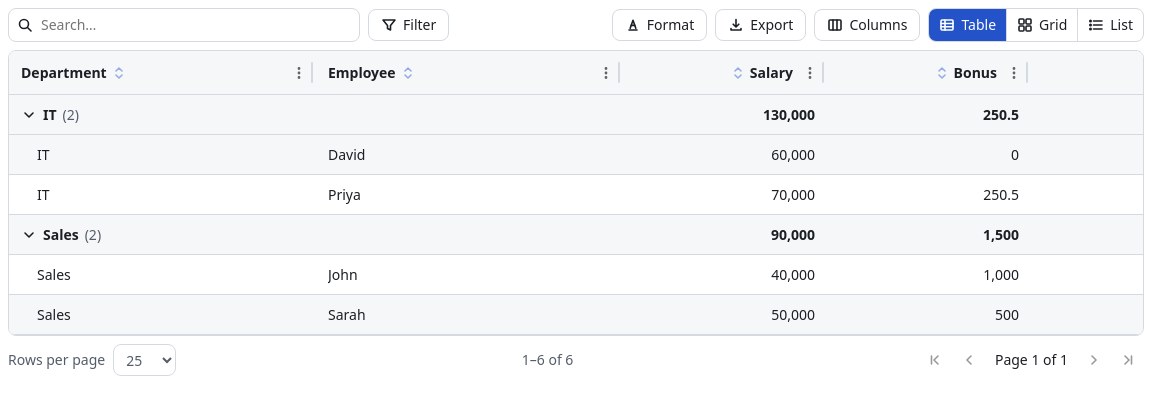
Test: aggregation › shows each group sum in that column and keeps it when the group is collapsed
Check: the text "John" is shown, box x1=328 y1=265 x2=358 y2=284
Check: the text "40,000" is shown, box x1=771 y1=265 x2=815 y2=284
Click the row "Sales (2) 90,000 1,500": click(576, 235) x1=9 y1=215 x2=1143 y2=255
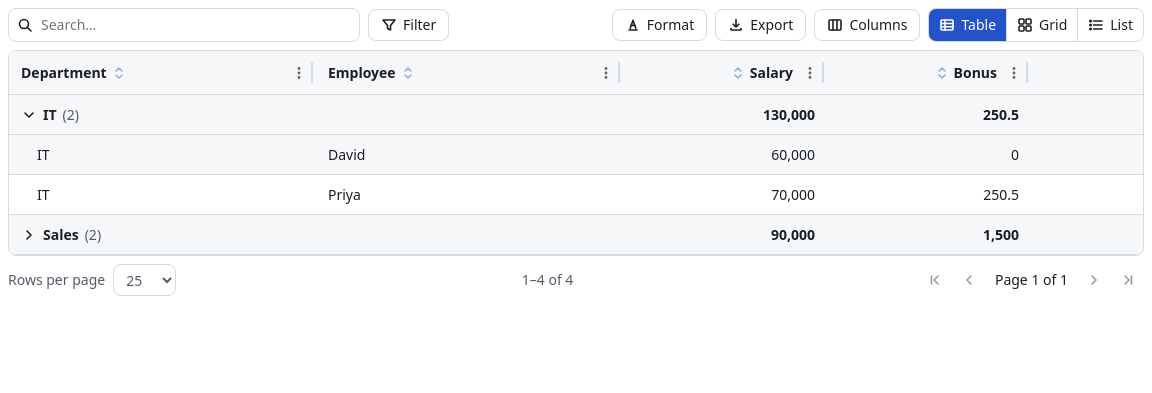
Check: the text "Priya" is shown, box x1=328 y1=185 x2=361 y2=204
Check: the text "John" is gone
